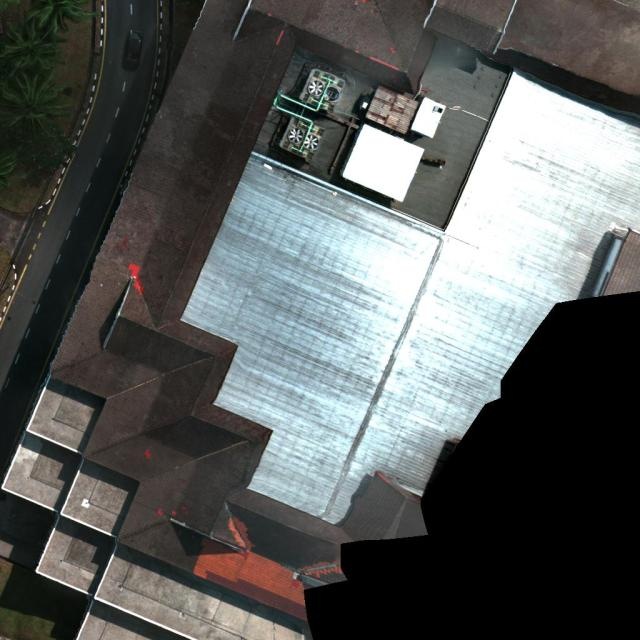Tree: (0, 66, 75, 140), (0, 10, 68, 75), (3, 124, 79, 174), (24, 0, 100, 34)
